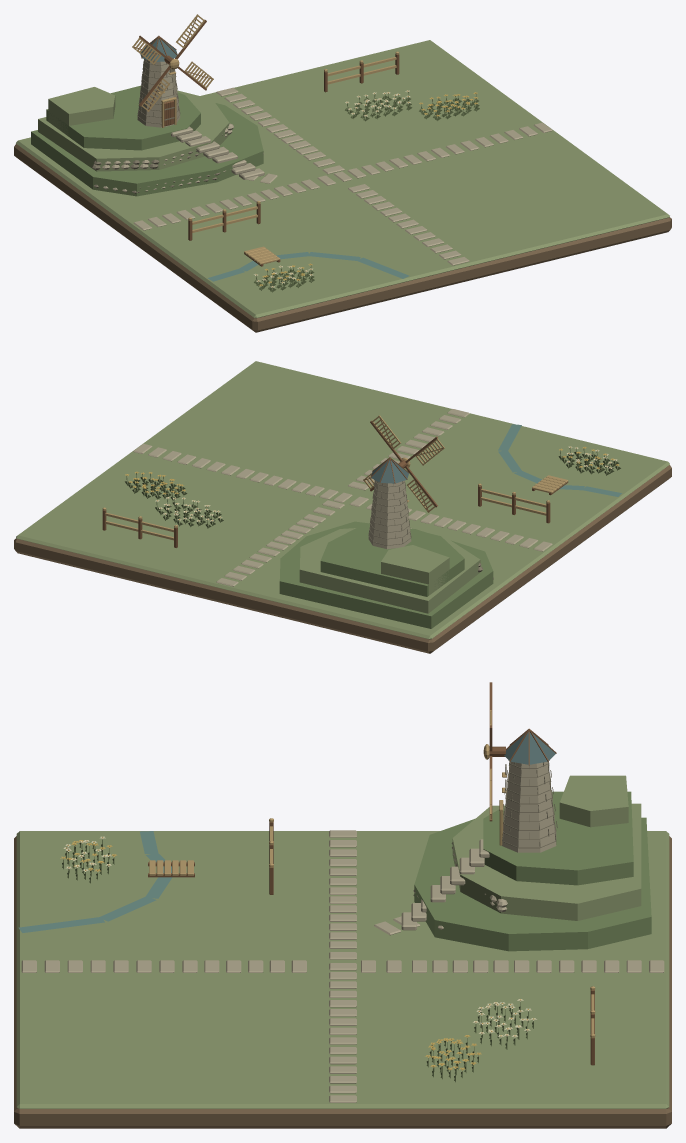
Rendered from rolling_meadow-scene.glb.
3 renders of one model, top to bottom at view 1: azimuth 30°, elevation 25°; view 2: azimuth 150°, elevation 25°; view 3: azimuth 270°, elevation 25°, orthographic. The views are drawn at different scales.
Visible parts, largest first — view 1: runtime_meadow grass, runtime_dry stone limestone, runtime_ridge grass, runtime_terrace earth, runtime_warm blade timber, runtime_wildflower stems, runtime_windmill oak, runtime_rill water, runtime_stone shadow, runtime_meadow ochre; view 2: runtime_meadow grass, runtime_terrace earth, runtime_ridge grass, runtime_dry stone limestone, runtime_warm blade timber, runtime_wildflower stems, runtime_windmill oak, runtime_rill water, runtime_stone shadow, runtime_slate cap, runtime_meadow ochre, runtime_meadow ivory; view 3: runtime_meadow grass, runtime_dry stone limestone, runtime_ridge grass, runtime_terrace earth, runtime_rill water, runtime_wildflower stems, runtime_windmill oak, runtime_warm blade timber, runtime_stone shadow, runtime_slate cap, runtime_meadow ochre, runtime_meadow ivory.
Part boxes in pixels (x1=…): runtime_meadow grass: x1=16, y1=40, x2=669, y2=318; runtime_dry stone limestone: x1=102, y1=59, x2=552, y2=265; runtime_ridge grass: x1=31, y1=85, x2=263, y2=196; runtime_terrace earth: x1=14, y1=144, x2=671, y2=332; runtime_warm blade timber: x1=132, y1=14, x2=399, y2=264; runtime_wildflower stems: x1=254, y1=92, x2=479, y2=292; runtime_windmill oak: x1=134, y1=17, x2=399, y2=266; runtime_rill water: x1=208, y1=252, x2=409, y2=281; runtime_stone shadow: x1=92, y1=58, x2=222, y2=193; runtime_meadow ochre: x1=255, y1=90, x2=477, y2=287; runtime_meadow grass: x1=16, y1=361, x2=669, y2=639; runtime_terrace earth: x1=14, y1=465, x2=671, y2=653; runtime_ridge grass: x1=279, y1=521, x2=493, y2=628; runtime_dry stone limestone: x1=133, y1=409, x2=552, y2=586; runtime_warm blade timber: x1=102, y1=415, x2=568, y2=540; runtime_wildflower stems: x1=125, y1=448, x2=620, y2=528; runtime_windmill oak: x1=102, y1=418, x2=568, y2=547; runtime_rill water: x1=498, y1=424, x2=621, y2=496; runtime_stone shadow: x1=368, y1=480, x2=493, y2=579; runtime_slate cap: x1=371, y1=459, x2=408, y2=483; runtime_meadow ochre: x1=125, y1=446, x2=619, y2=521; runtime_meadow ivory: x1=155, y1=446, x2=617, y2=521; runtime_meadow grass: x1=16, y1=775, x2=669, y2=1108; runtime_dry stone limestone: x1=21, y1=761, x2=664, y2=1102; runtime_ridge grass: x1=414, y1=791, x2=651, y2=951; runtime_terrace earth: x1=14, y1=836, x2=671, y2=1128; runtime_rill water: x1=18, y1=831, x2=172, y2=932; runtime_wildflower stems: x1=62, y1=839, x2=533, y2=1082; runtime_windmill oak: x1=148, y1=682, x2=594, y2=1065; runtime_warm blade timber: x1=149, y1=710, x2=595, y2=1037; runtime_stone shadow: x1=413, y1=760, x2=557, y2=896; runtime_slate cap: x1=504, y1=732, x2=555, y2=764; runtime_meadow ochre: x1=60, y1=837, x2=534, y2=1070; runtime_meadow ivory: x1=63, y1=836, x2=536, y2=1037.
Bounding box in the file's own units: 25.8 × 9.59 × 25.8.
